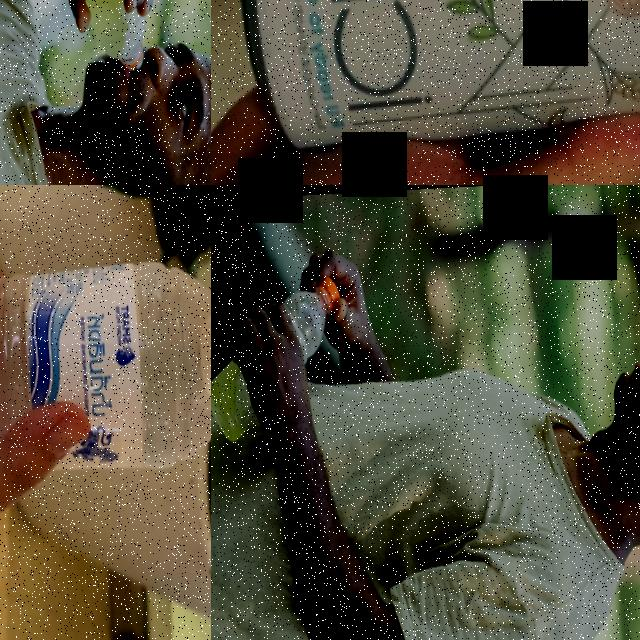bottle: (0, 247, 211, 488), (211, 279, 346, 445), (44, 0, 148, 78)
can: (232, 0, 640, 157)
